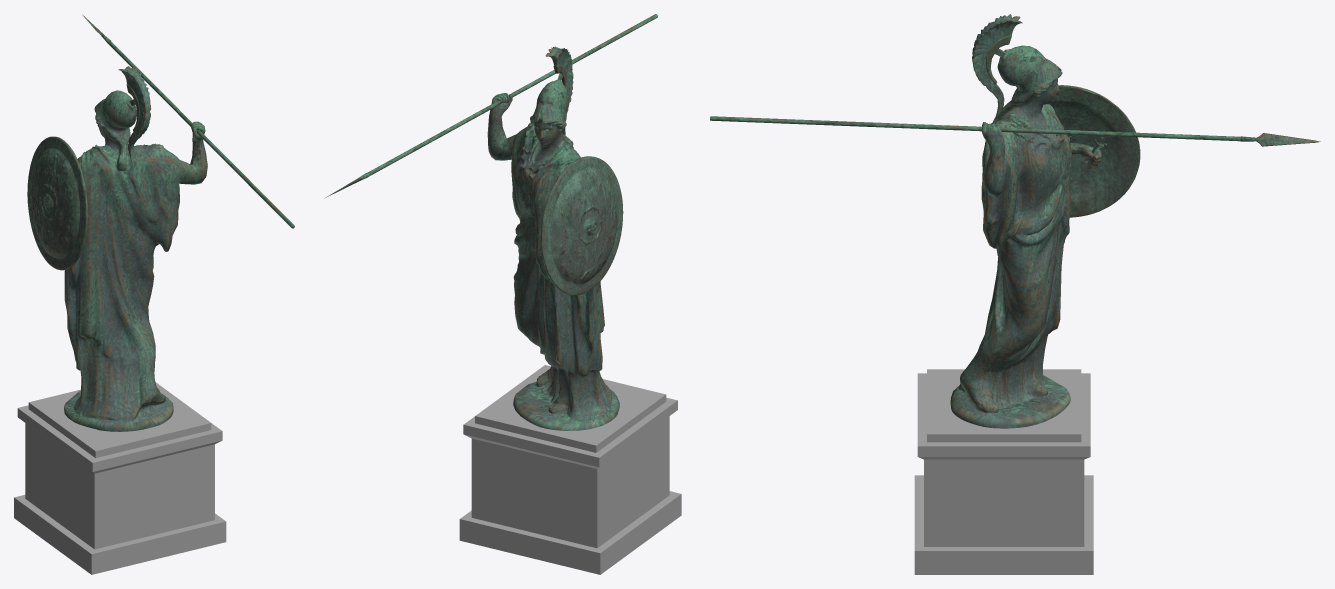
Rendered from AthenaPromachos.glb.
3 renders of one model, left to right at view 1: azimuth 30°, elevation 25°; view 2: azimuth 150°, elevation 25°; view 3: azimuth 270°, elevation 25°, orthographic. The views are drawn at different scales.
Parts seen in each view (by area): view 1: Athena_Promachos, Promachos_Base; view 2: Athena_Promachos, Promachos_Base; view 3: Athena_Promachos, Promachos_Base.
Boxes of the visible parts, bbox=[...] form: Athena_Promachos: bbox=[27, 14, 294, 431]; Promachos_Base: bbox=[14, 382, 226, 574]; Athena_Promachos: bbox=[324, 14, 657, 430]; Promachos_Base: bbox=[459, 365, 681, 574]; Athena_Promachos: bbox=[710, 14, 1320, 428]; Promachos_Base: bbox=[914, 369, 1093, 574].
Bounding box in the file's own units: 6.22 × 16.3 × 17.15.
4 materials, 3 textured.
